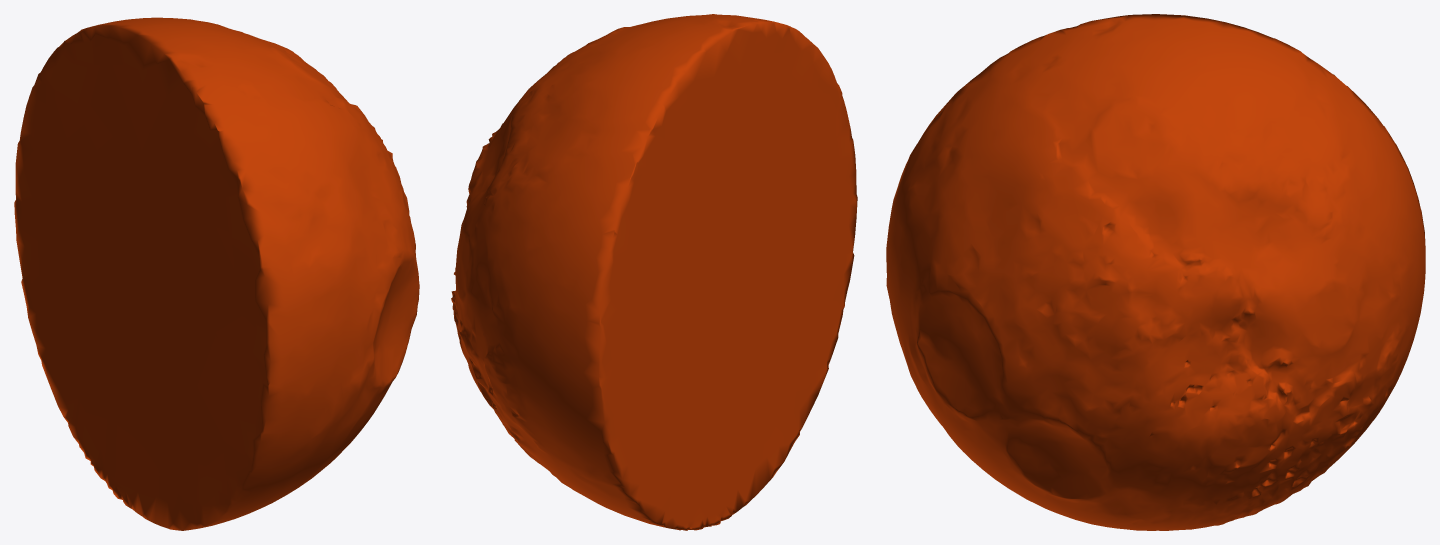
Rendered from Mars_mesh.fbx.
The picture shows the model from 3 angles, left to right: view 1: azimuth 30°, elevation 25°; view 2: azimuth 150°, elevation 25°; view 3: azimuth 270°, elevation 25°; orthographic projection. The views are drawn at different scales.
Visible parts, largest first — view 1: mars_decimated1:Group30335; view 2: mars_decimated1:Group30335; view 3: mars_decimated1:Group30335.
Part boxes in pixels (x1,y1,x2,y2): mars_decimated1:Group30335: (14,17,419,530); mars_decimated1:Group30335: (451,14,857,530); mars_decimated1:Group30335: (886,14,1425,530).
Bounding box in the file's own units: 9.11 × 16.05 × 16.
1 material, 1 textured.
